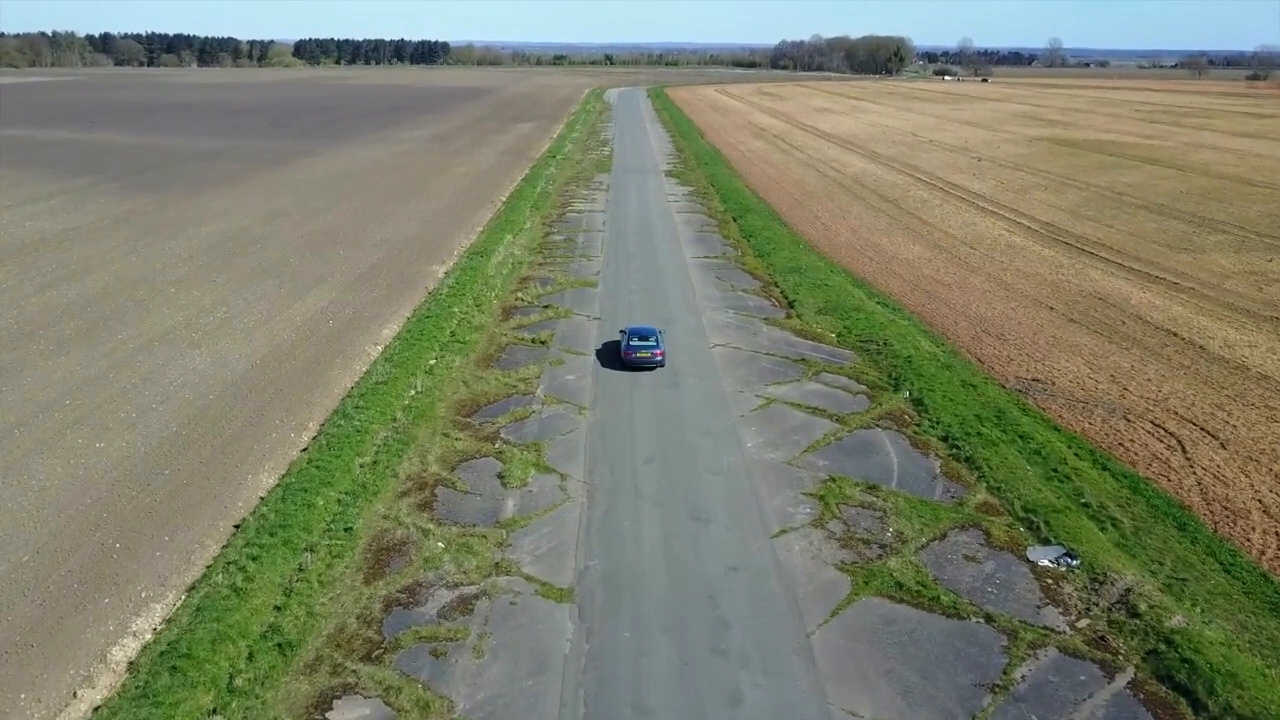araba: (614, 322, 666, 372)
